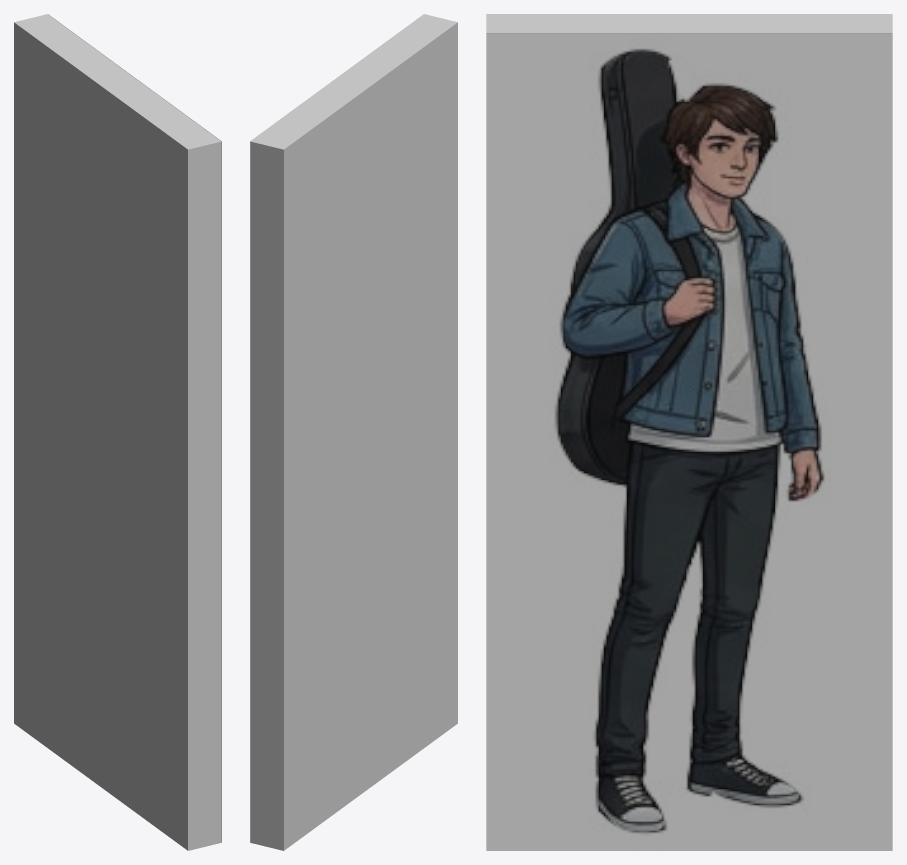
3 views of the same model, side by side, from view 1: azimuth 30°, elevation 25°; view 2: azimuth 150°, elevation 25°; view 3: azimuth 270°, elevation 25° (orthographic). The views are drawn at different scales.
Parts seen in each view (by area): view 1: 立方体, 平面; view 2: 立方体, 平面; view 3: 平面, 立方体.
Boxes of the visible parts, x1,y1,x2,y2 form: 立方体: (14, 14, 221, 850); 平面: (48, 14, 221, 842); 立方体: (250, 14, 457, 850); 平面: (250, 14, 423, 842); 平面: (486, 33, 892, 850); 立方体: (486, 14, 892, 33).
Size of the model in its own units: 0.0101 by 0.09 by 0.2.
Materials: 1 (1 with a texture image).
